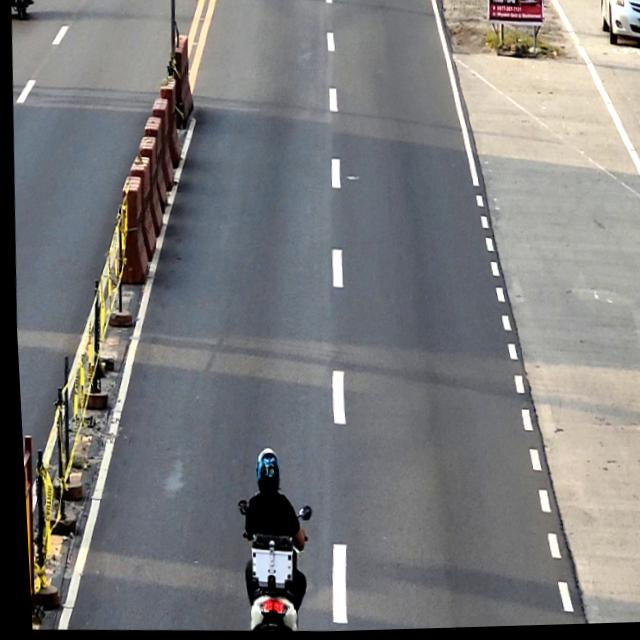Car: (597, 0, 640, 50)
License-Plate: (635, 20, 640, 32)
Motorcycle: (226, 498, 311, 634)
